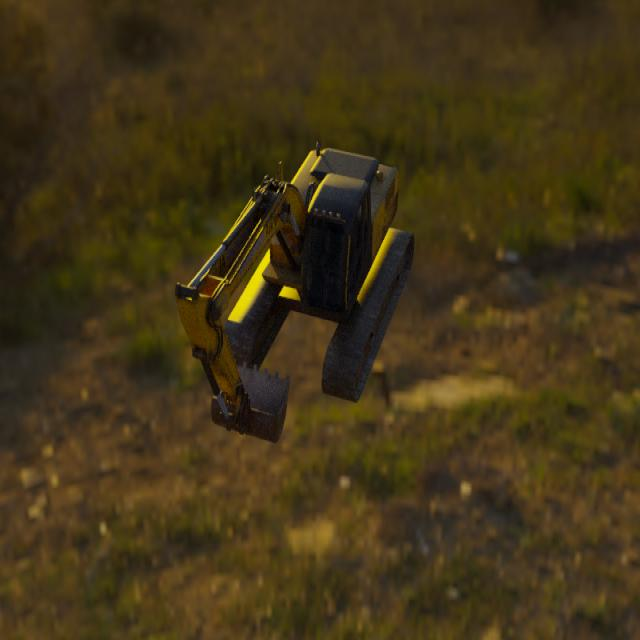excavator: (174, 140, 415, 443)
